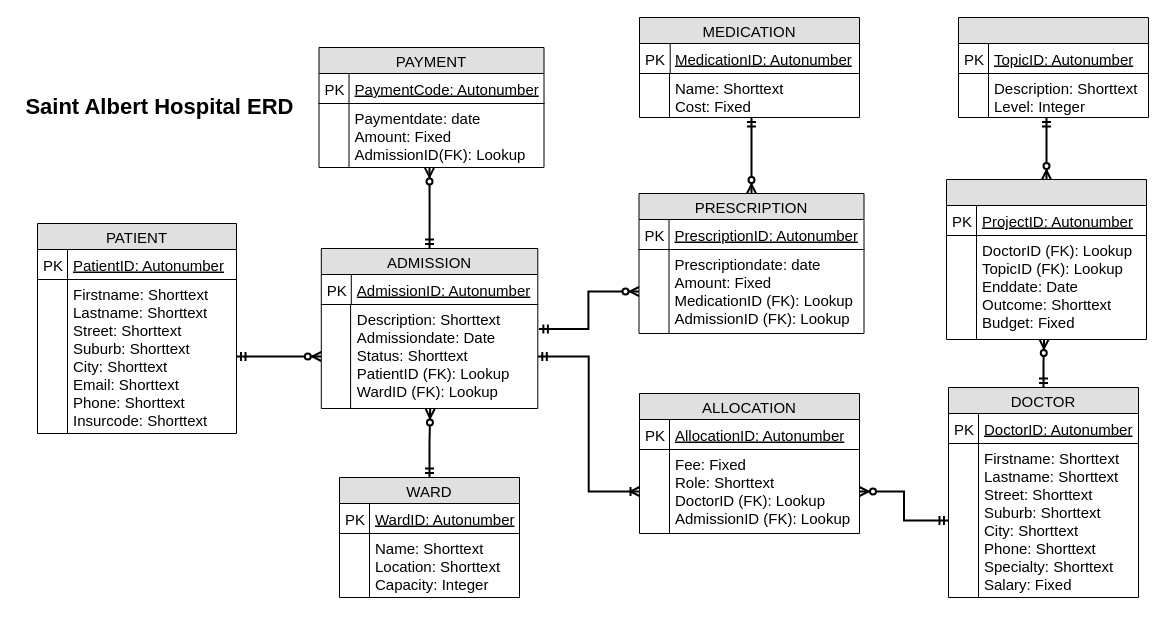
Image size: 1166x618. Some labels were removed from this diagram. The box of each missing label's shape, as (x1, y1, x2, y2) in pixels:
RESEARCHPROJECT: (946, 178, 1146, 340)
RESEARCHTOPIC: (958, 16, 1148, 118)
